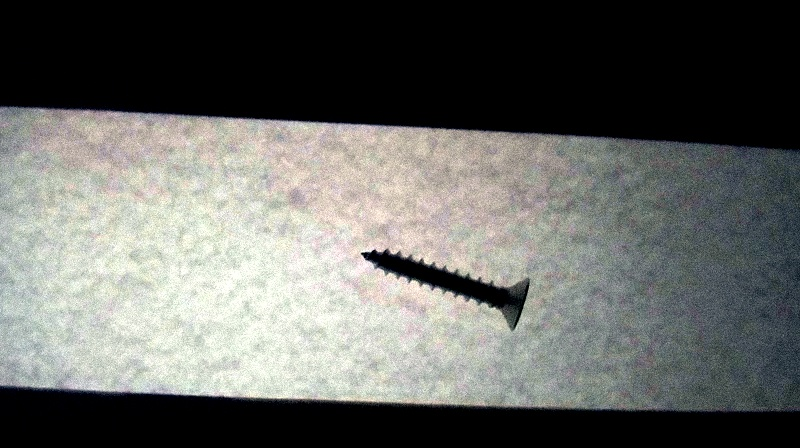S001: (355, 246, 534, 330)
